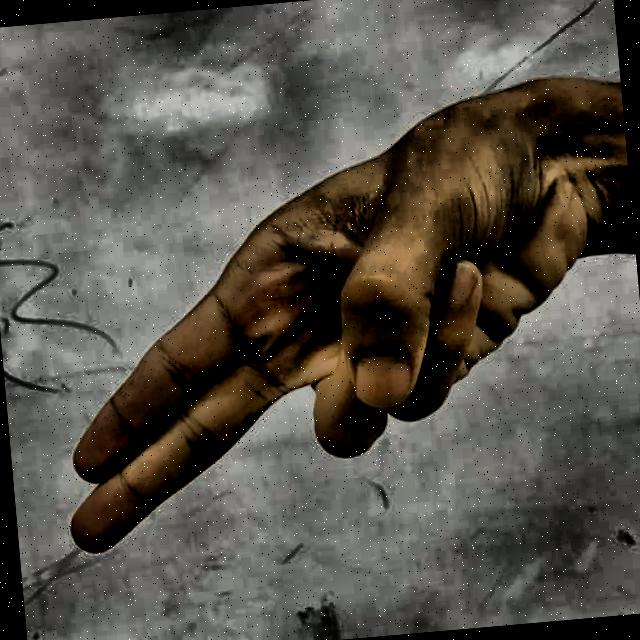Ha: (15, 88, 605, 621)
